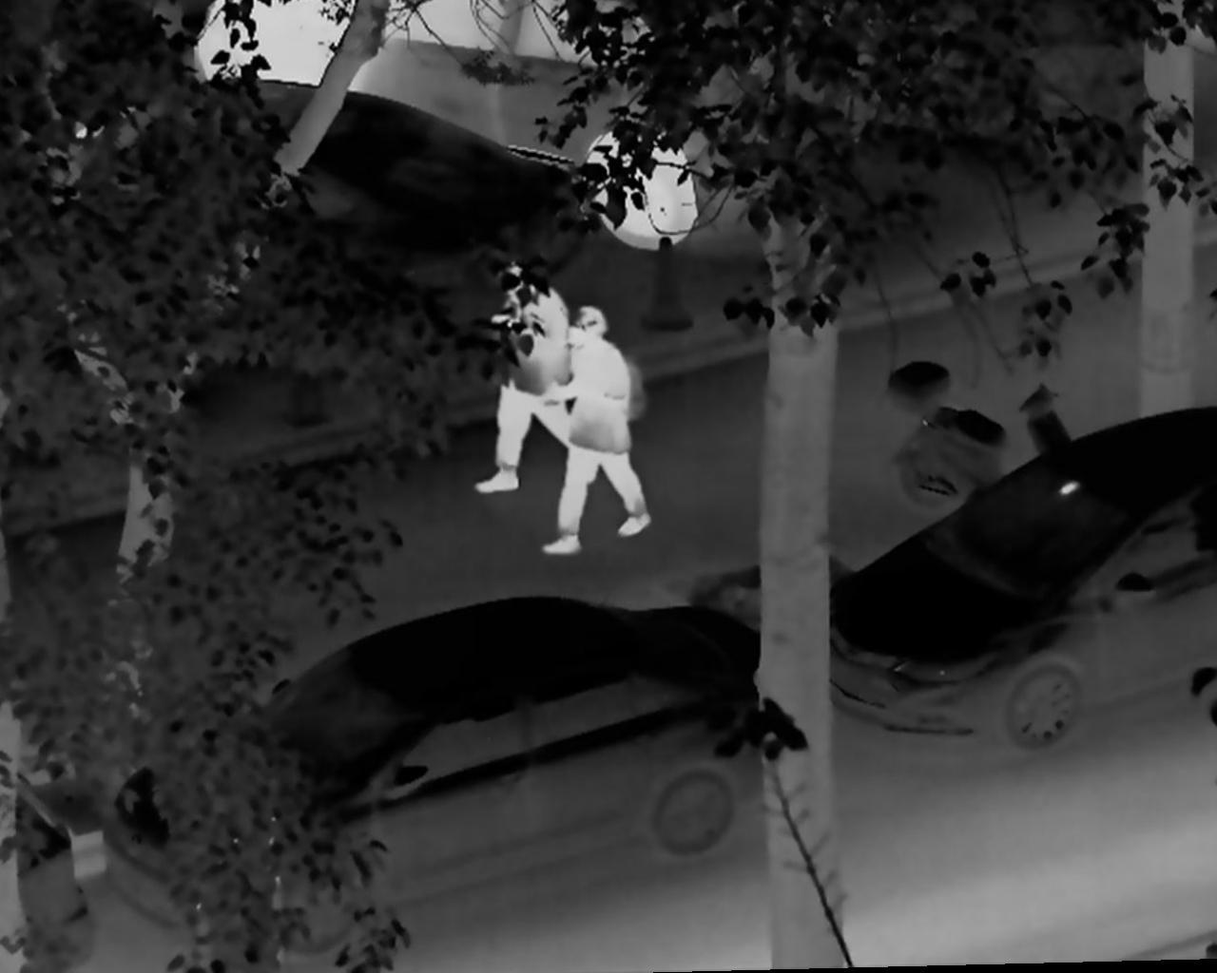person: (541, 305, 654, 558), (474, 255, 589, 495)
